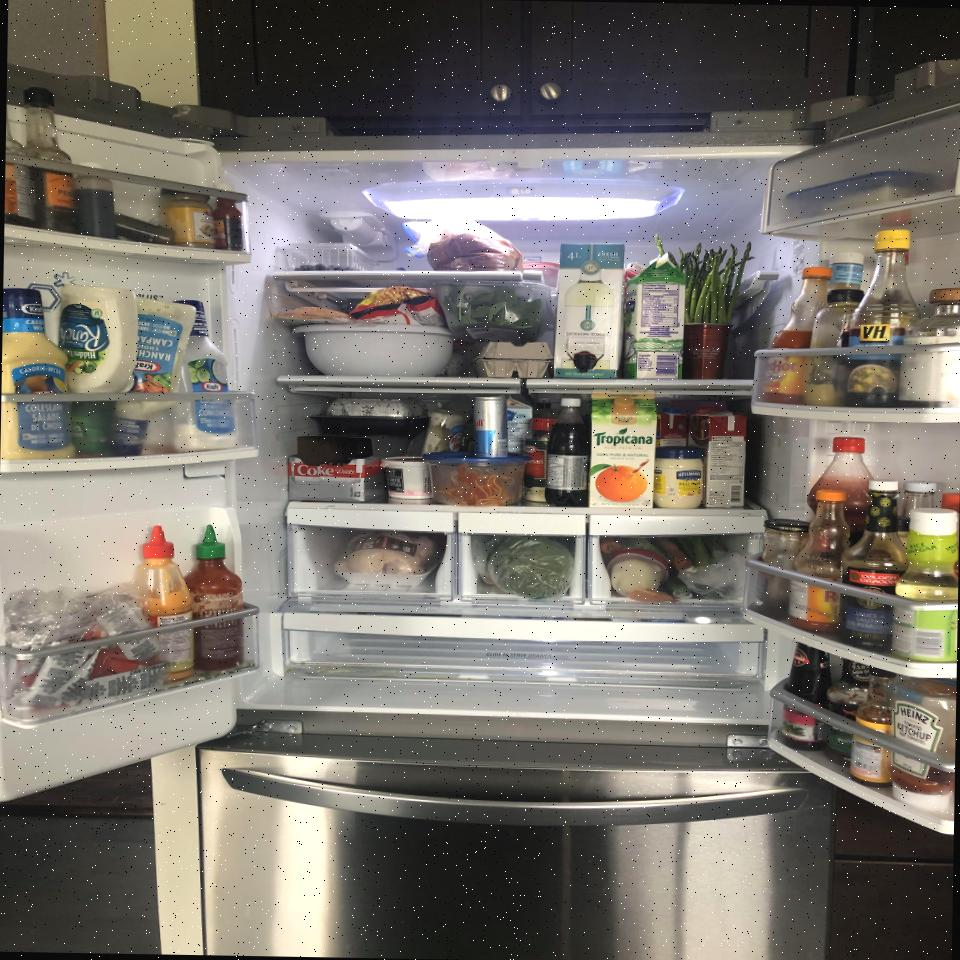Carne pollo: (334, 530, 443, 586)
Huevos: (470, 340, 554, 378)
Lechuga/Endivia: (486, 534, 575, 600)
Zanahoria: (659, 538, 694, 571), (601, 537, 623, 555)
